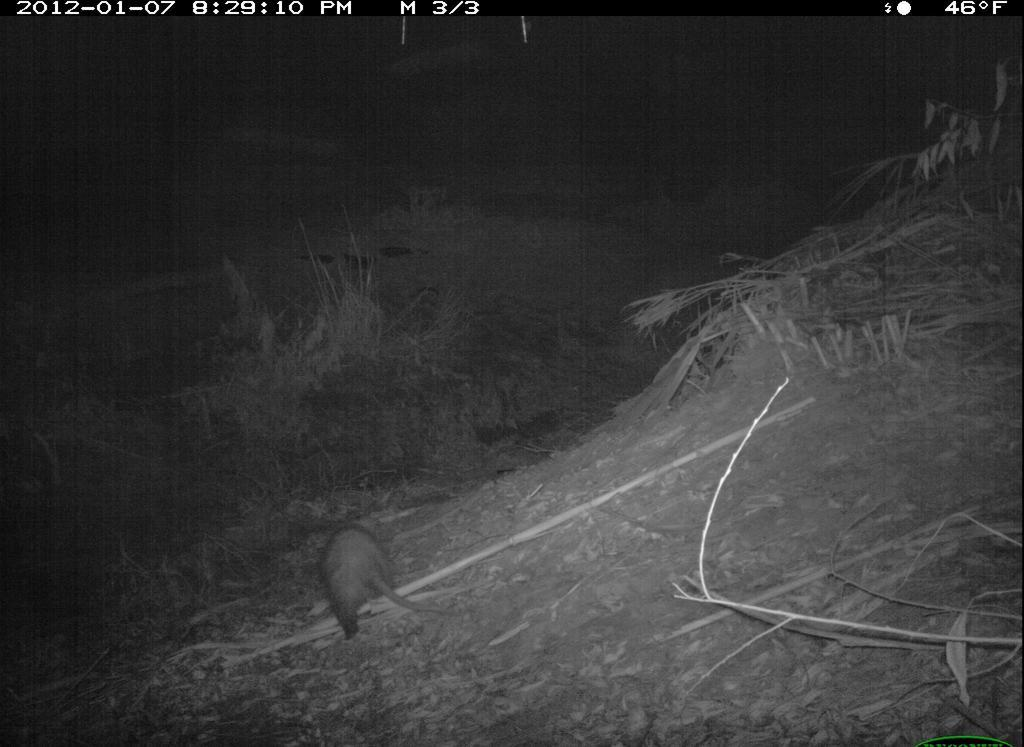opossum: (299, 513, 473, 649)
